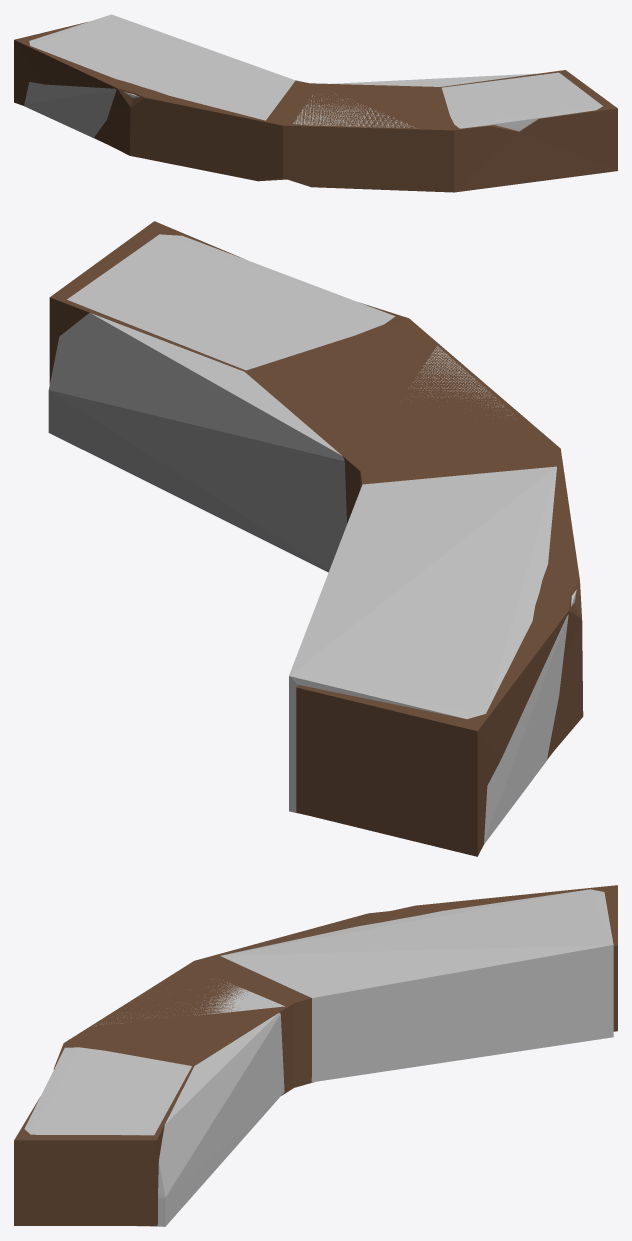
File: SM_Bld_Wall_Beam_Corner_Small_01.fbx
The picture shows the model from 3 angles, top to bottom: view 1: azimuth 30°, elevation 25°; view 2: azimuth 150°, elevation 25°; view 3: azimuth 270°, elevation 25°; orthographic projection. The views are drawn at different scales.
Parts seen in each view (by area): view 1: SM_Bld_Wall_Beam_Corner_Small_01, SM_Bld_Wall_Beam_Corner_Small_01_ConvexHulls; view 2: SM_Bld_Wall_Beam_Corner_Small_01_ConvexHulls, SM_Bld_Wall_Beam_Corner_Small_01; view 3: SM_Bld_Wall_Beam_Corner_Small_01_ConvexHulls, SM_Bld_Wall_Beam_Corner_Small_01.
Boxes of the visible parts, <box> form: SM_Bld_Wall_Beam_Corner_Small_01: <box>14,22,617,192</box>; SM_Bld_Wall_Beam_Corner_Small_01_ConvexHulls: <box>24,14,602,143</box>; SM_Bld_Wall_Beam_Corner_Small_01_ConvexHulls: <box>48,234,576,843</box>; SM_Bld_Wall_Beam_Corner_Small_01: <box>49,221,583,856</box>; SM_Bld_Wall_Beam_Corner_Small_01_ConvexHulls: <box>24,889,613,1226</box>; SM_Bld_Wall_Beam_Corner_Small_01: <box>14,885,617,1225</box>.
Bounding box in the file's own units: 143 × 143 × 24.18.
Materials: 2 (1 with a texture image).
